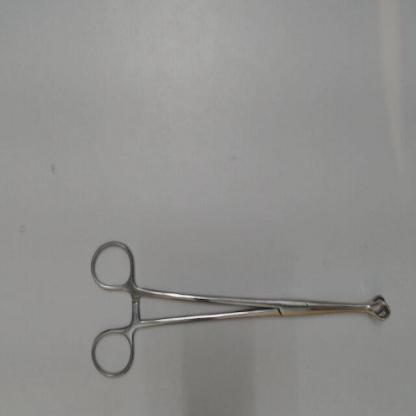8 Babcock Tissue Forceps: (85, 230, 395, 385)
